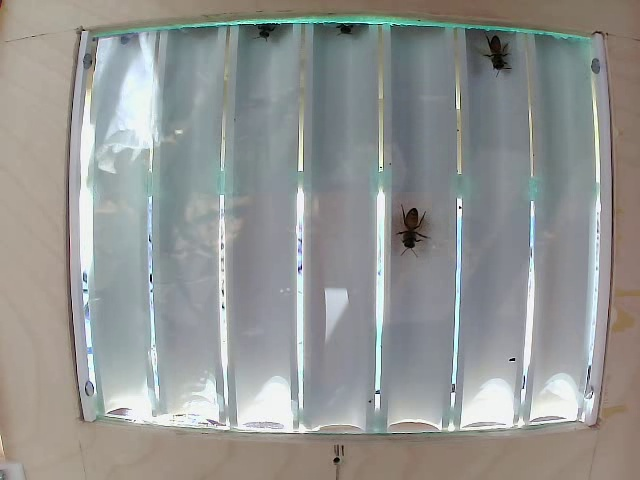bee: (394, 195, 428, 252), (491, 32, 530, 78)
